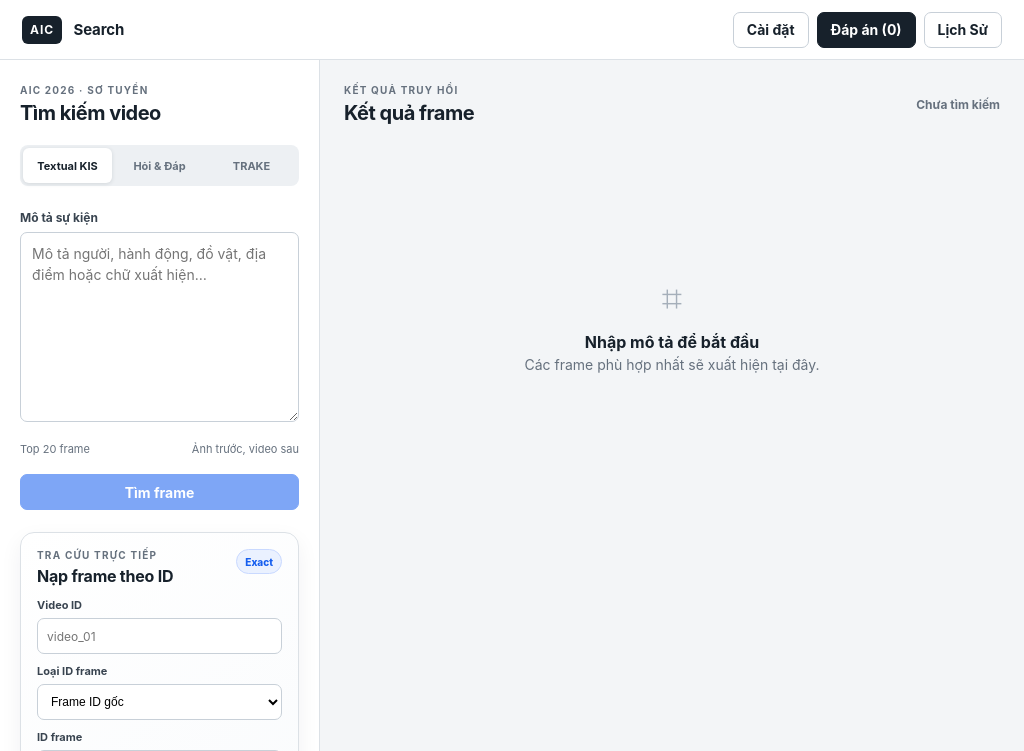
Test: qualification frame-first workbench › clears the answer queue before executing a new textual query
The width and height of the screenshot is (1024, 751).
Type "Query đầu tiên" into the text box labelled "Mô tả sự kiện" at x=160, y=327, box [20, 232, 299, 422]
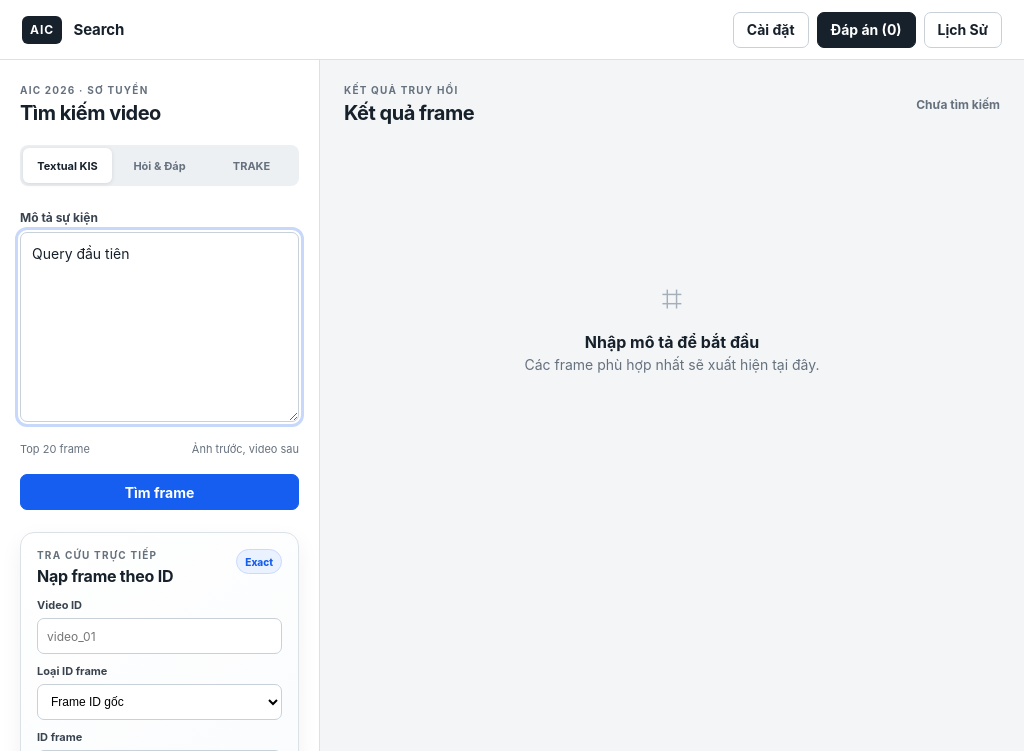
Click the button "Tìm frame" at x=160, y=492, box [20, 474, 299, 510]
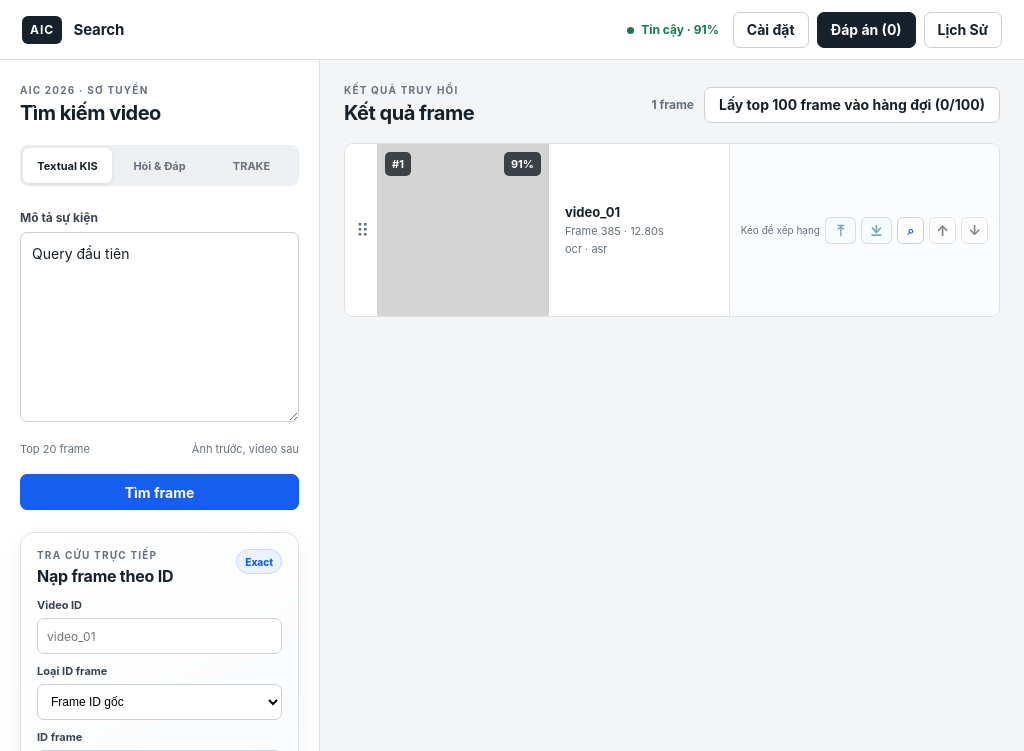
Click the button "Lấy top 100 frame vào hàng đợi (0/100)" at x=852, y=104, box [704, 86, 1000, 122]
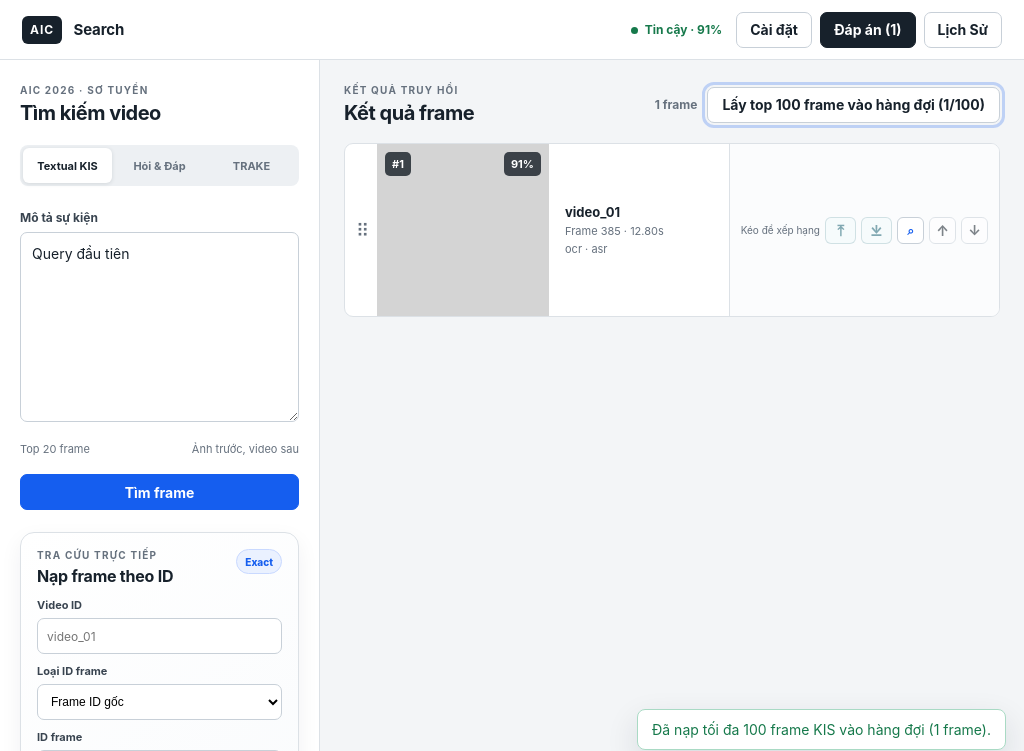
Check: the button "Đáp án (1)" is shown, box [820, 12, 916, 48]
Replace the text in the text box labelled "Mô tả sự kiện" with "Query thứ hai" at x=160, y=327, box [20, 232, 299, 422]
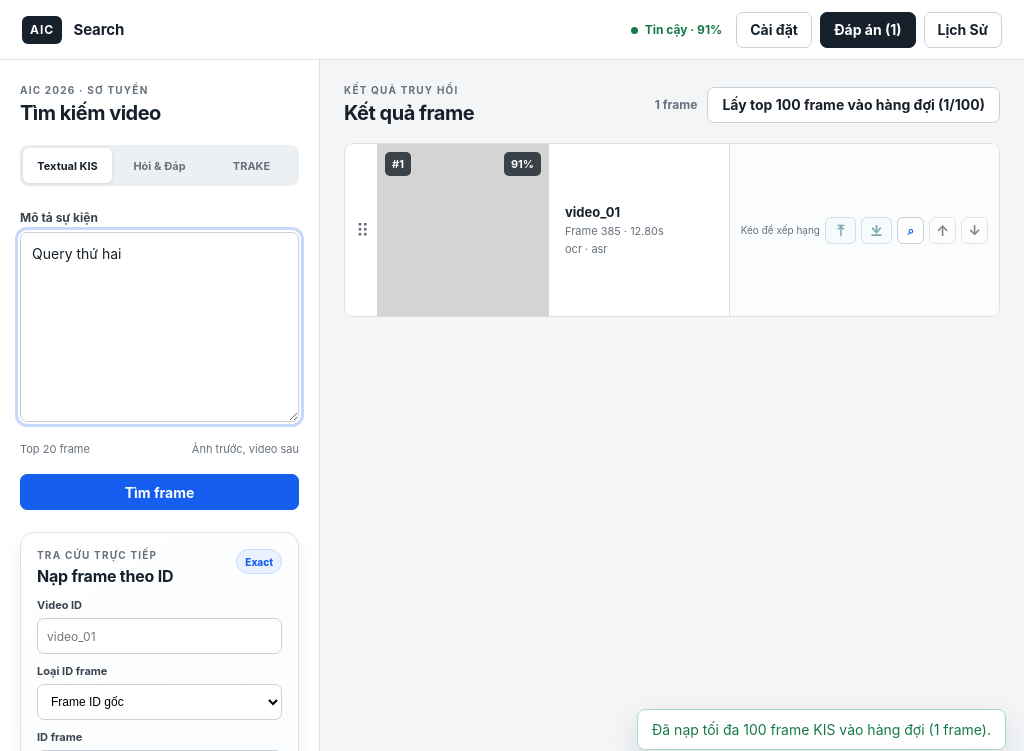
Click the button "Tìm frame" at x=160, y=492, box [20, 474, 299, 510]
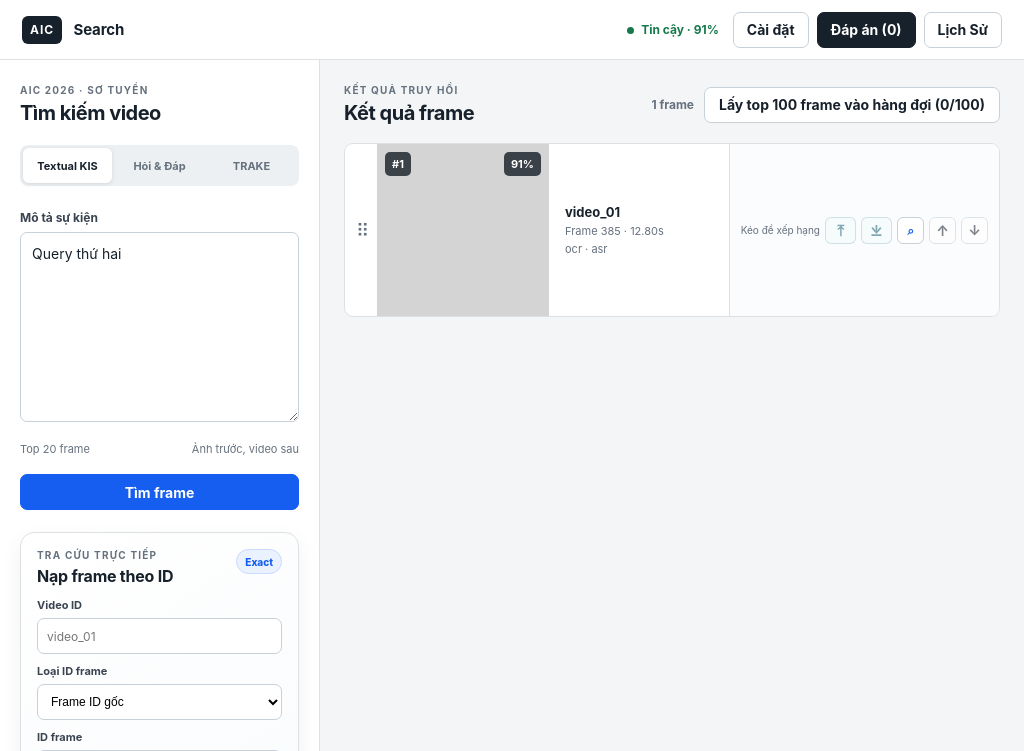
Check: the button "Đáp án (0)" is shown, box [816, 12, 916, 48]
